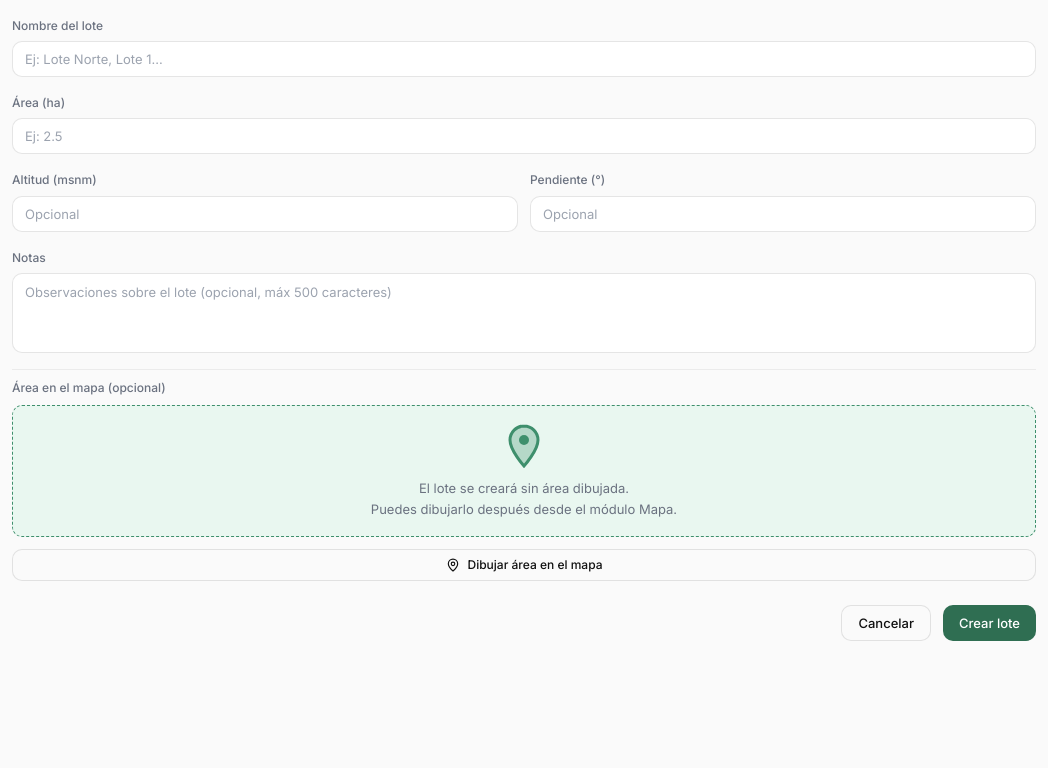
it: LoteForm › Validation errors › shows error message when submitting with empty nombre
Set areaHa to a valid value but leave nombre empty
Type "2.5" into the number field labelled "Área (ha)" at (524, 136), box [12,118,1036,154]
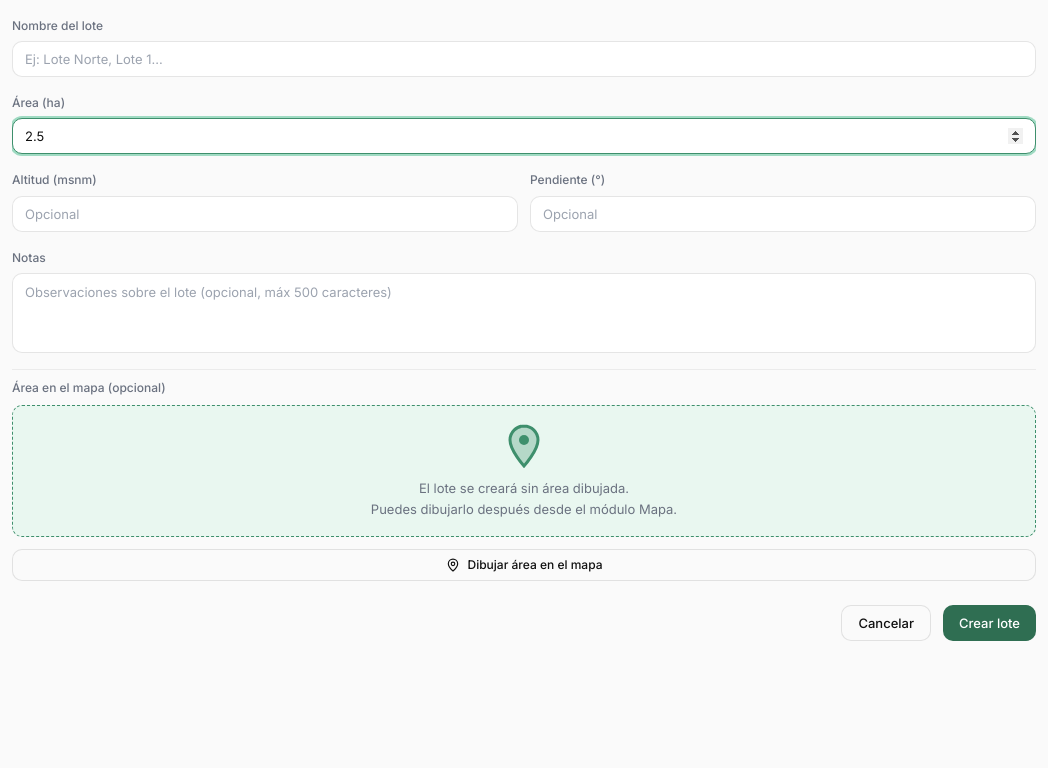
Click the button "Crear lote" at (990, 623), box [943,605,1036,641]
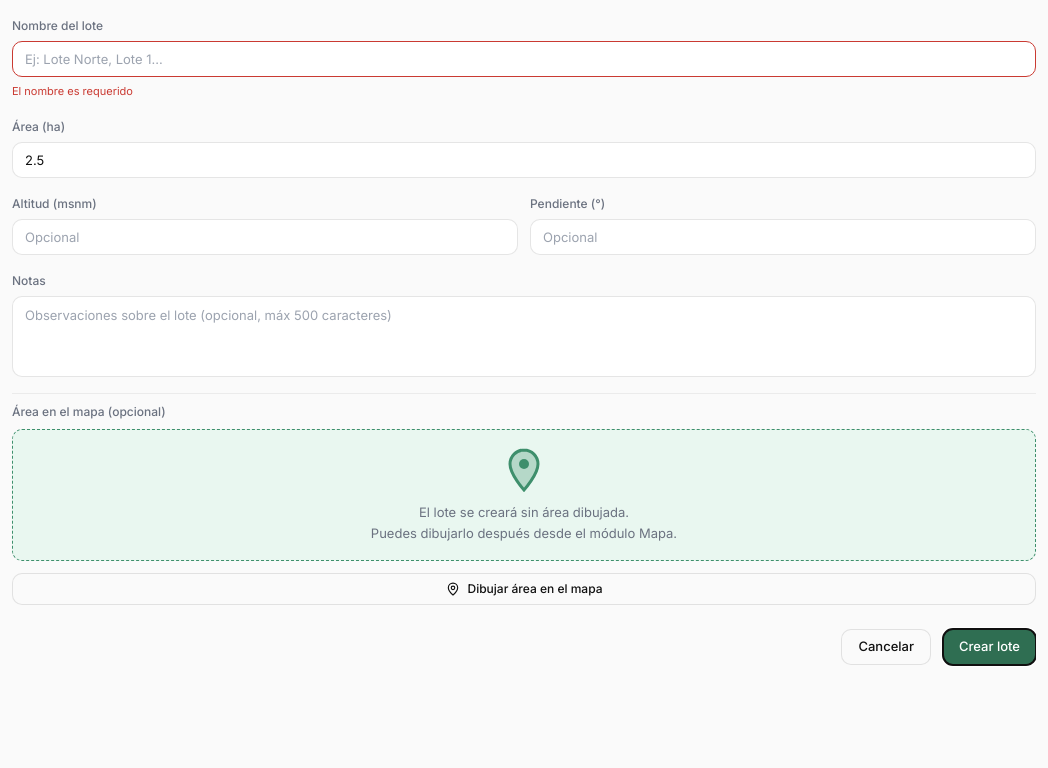
Check: the text "El nombre es requerido" is shown, box [12,84,133,98]
